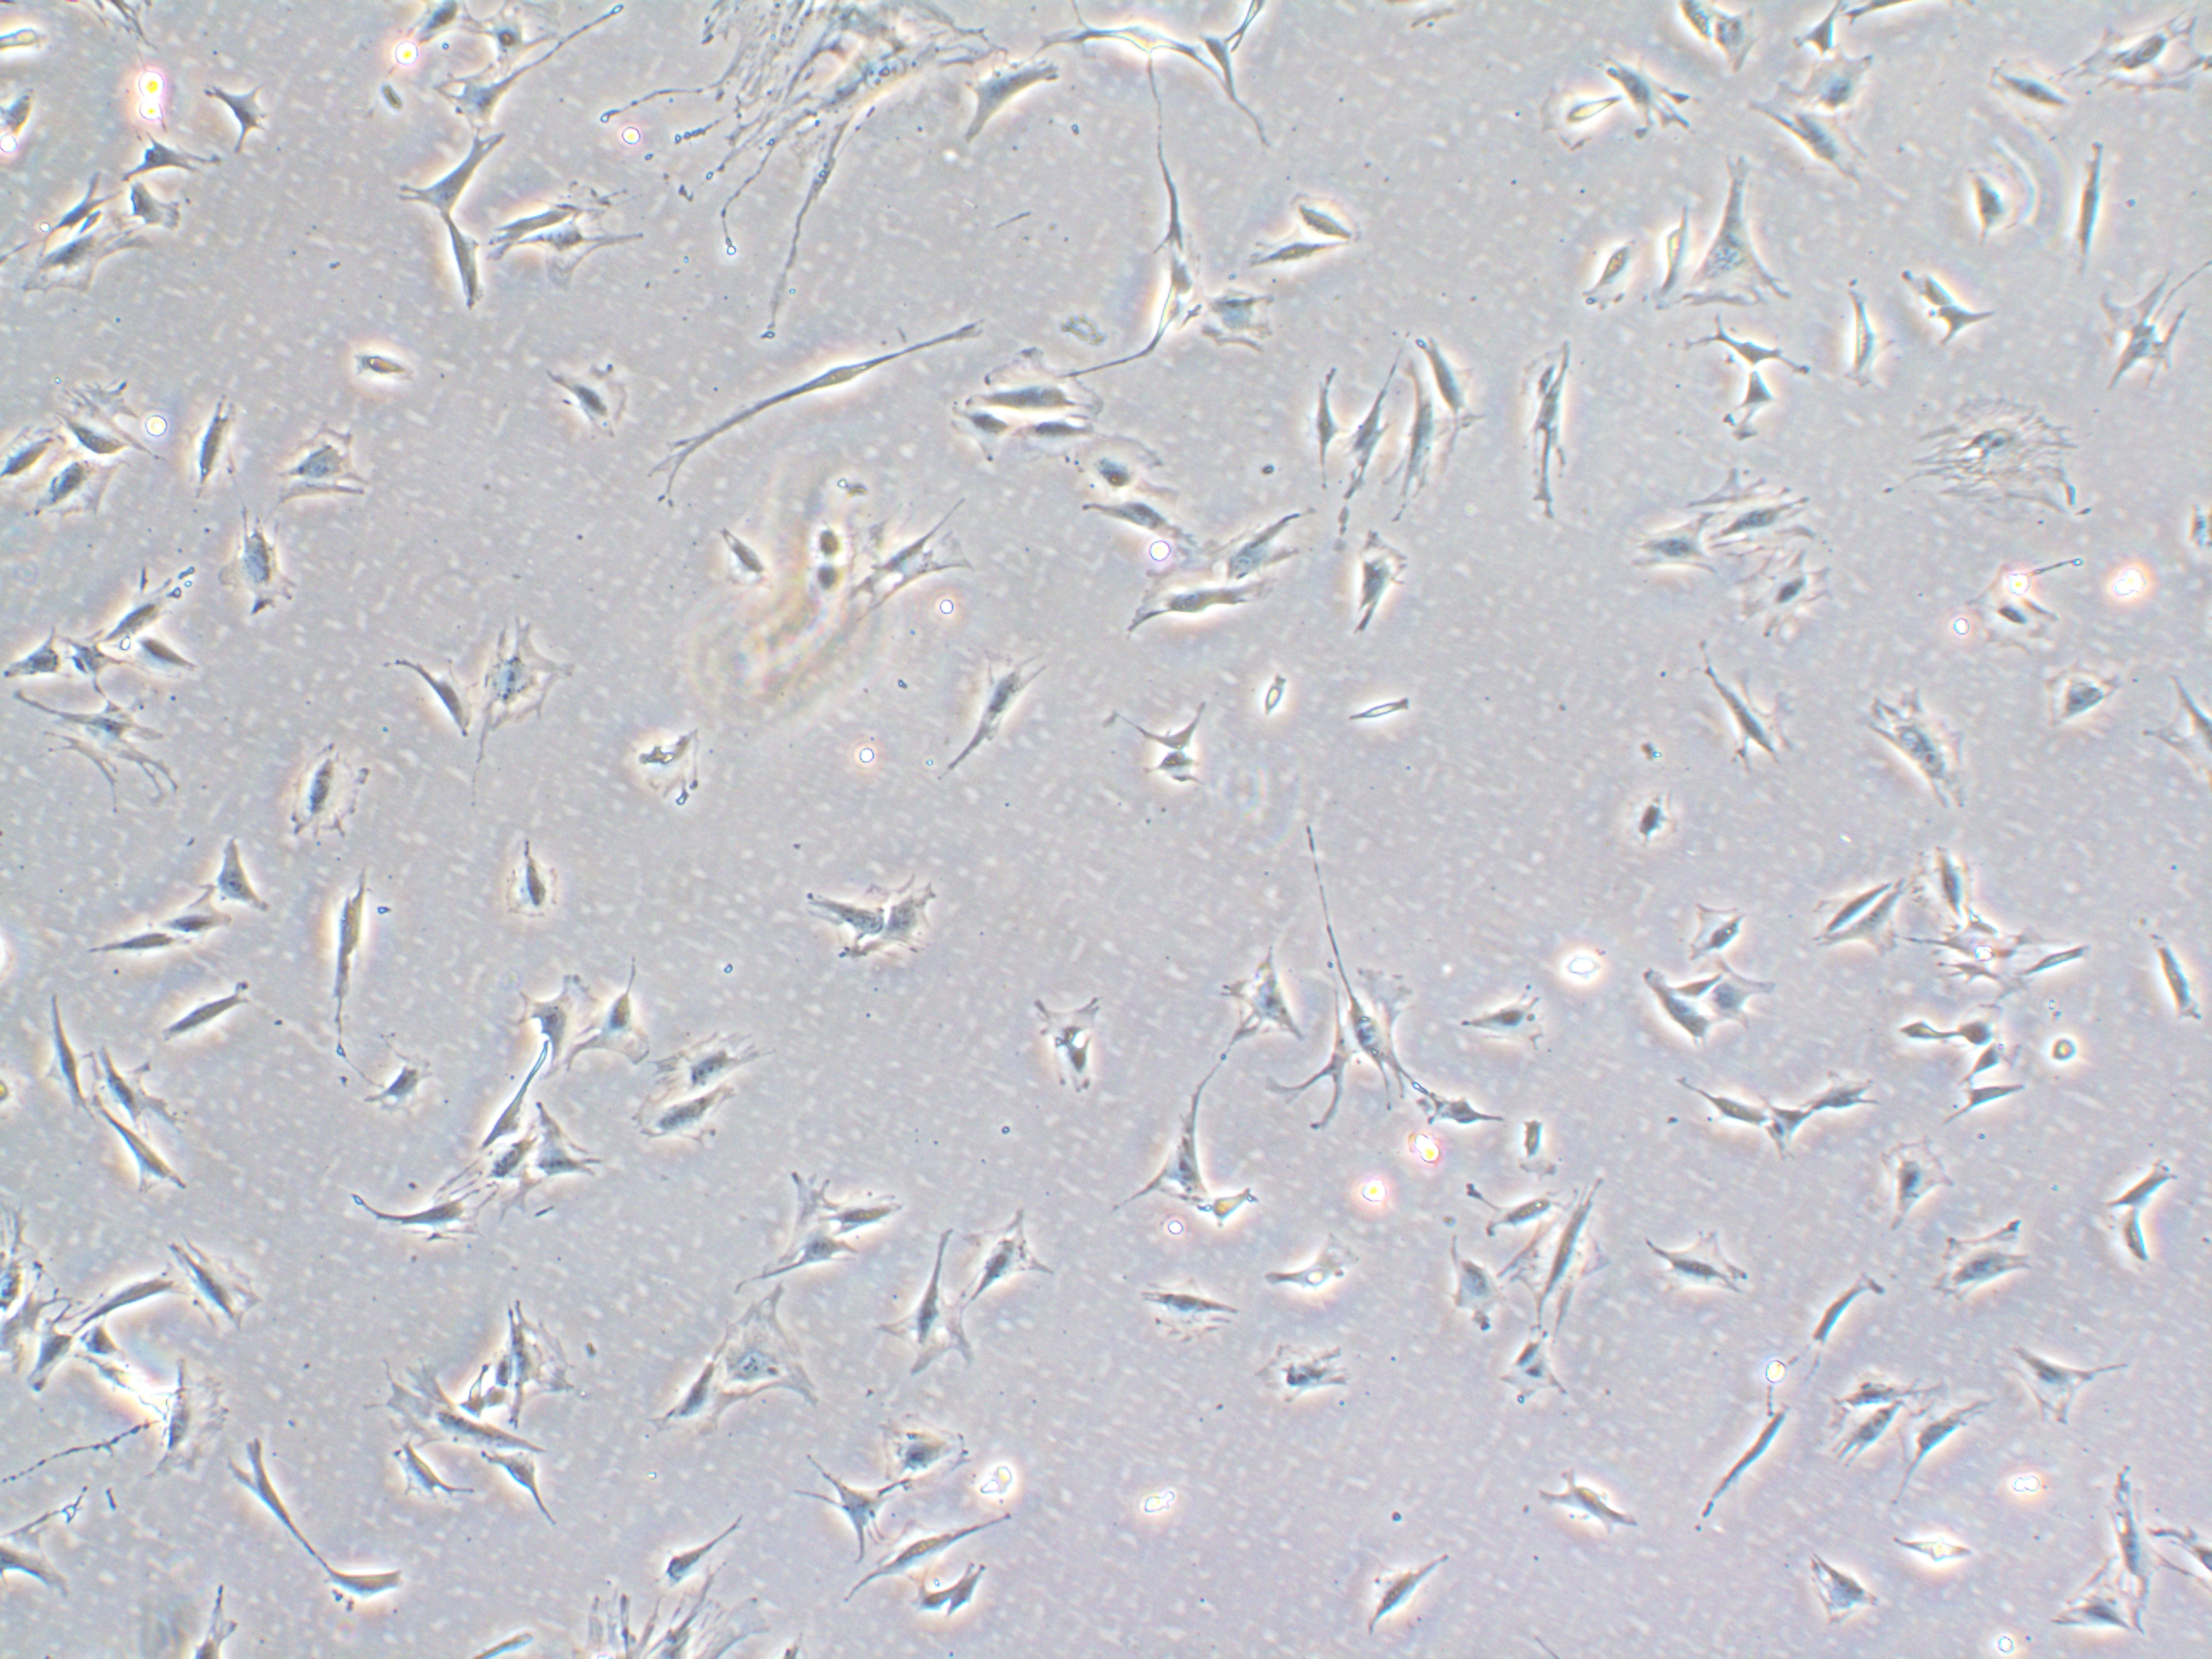small: (1604, 770, 1700, 861), (780, 498, 866, 566), (1336, 678, 1437, 732), (1198, 1180, 1273, 1249), (787, 559, 859, 617), (1249, 655, 1306, 727)
spread: (667, 0, 977, 286), (658, 1279, 840, 1445), (1912, 380, 2097, 532), (1862, 659, 1987, 833), (1691, 458, 1838, 587), (463, 620, 594, 739), (275, 727, 385, 854), (143, 1370, 233, 1506), (275, 413, 385, 523)
